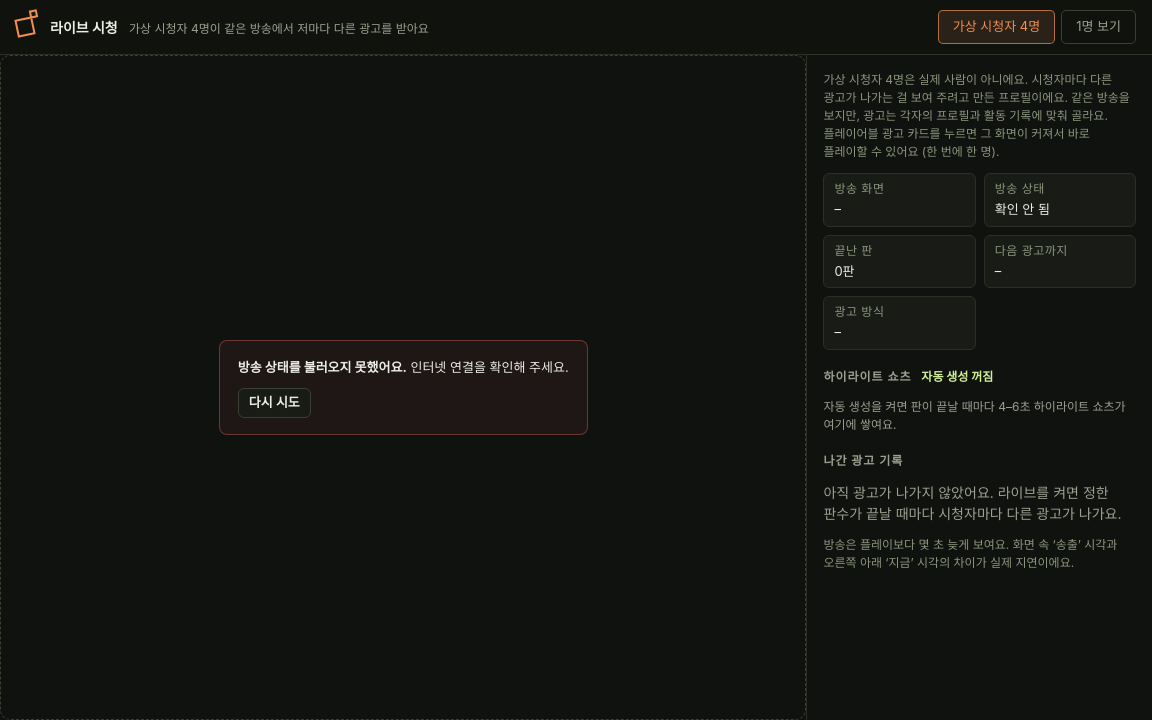
loading, failed and off air are three different things on the watch page (R20-43) › a status that cannot be read: the reason and 다시 시도, which asks again at once
Expected: the message "방송 상태를 불러오지 못했어요. 인터넷 연결을 확인해 주세요. 다시 시도" is shown, [219,340,588,435]
Expected: the element with class "watch-main" does not show "방송이 꺼져 있어요"
Click the button "다시 시도": x=274, y=403 [238,388,311,418]
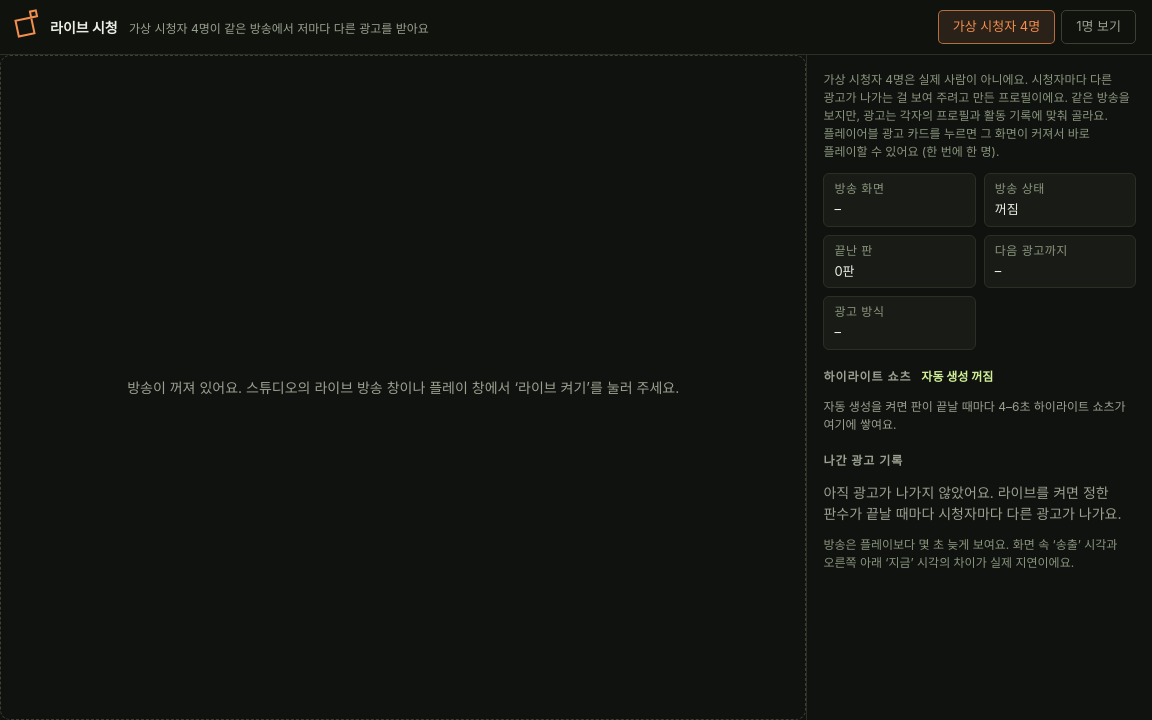
Expected: the message "방송 상태를 불러오지 못했어요. 인터넷 연결을 확인해 주세요. 다시 시도" is gone
Expected: the panel with class "watch-main" shows "방송이 꺼져 있어요.", [127,379,679,396]
